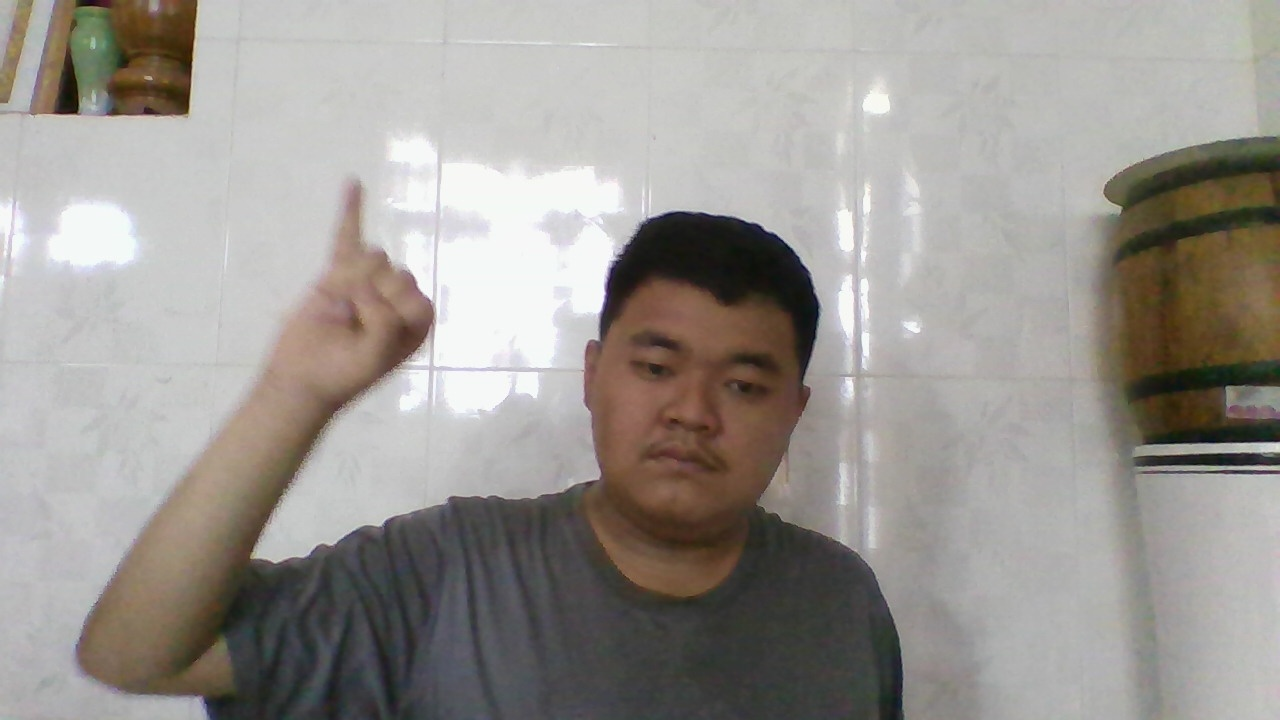I: (285, 184, 438, 396)
